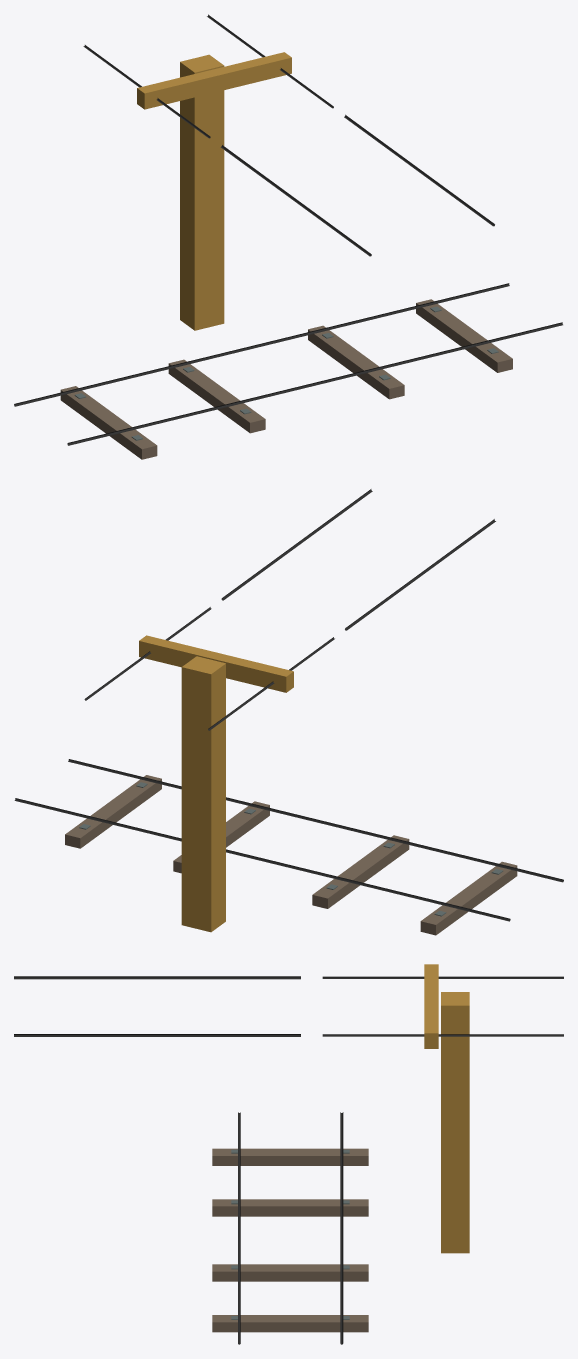
3 views of the same model, one above another, from view 1: azimuth 30°, elevation 25°; view 2: azimuth 150°, elevation 25°; view 3: azimuth 270°, elevation 25° (orthographic). The views are drawn at different scales.
Visible parts, largest first — view 1: RL72 | archived geometry, RL72 | line, light and sprite surfaces; view 2: RL72 | archived geometry, RL72 | line, light and sprite surfaces; view 3: RL72 | archived geometry, RL72 | line, light and sprite surfaces.
Boxes of the visible parts, x1,y1,x2,y2 form: RL72 | archived geometry: (60,52,512,459); RL72 | line, light and sprite surfaces: (14,14,562,445); RL72 | archived geometry: (65,635,517,935); RL72 | line, light and sprite surfaces: (14,489,563,921); RL72 | archived geometry: (212,964,469,1332); RL72 | line, light and sprite surfaces: (14,976,563,1344).
Size of the model in its own units: 16.06 by 8 by 16.11.
